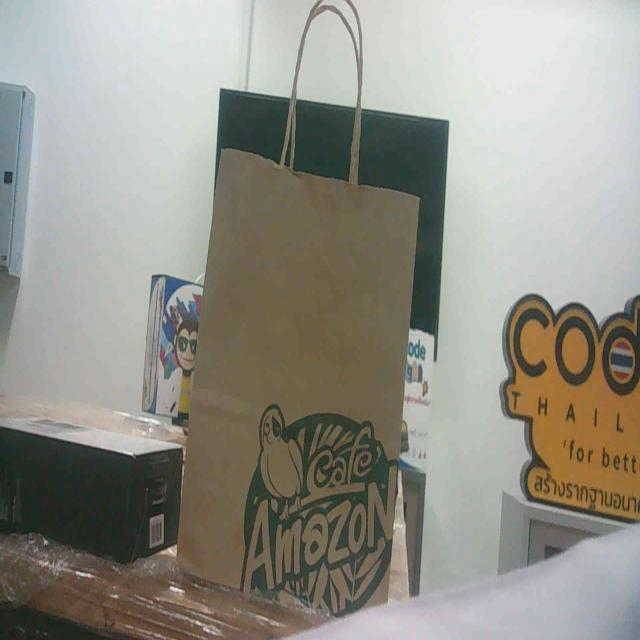bag: (194, 117, 411, 628)
